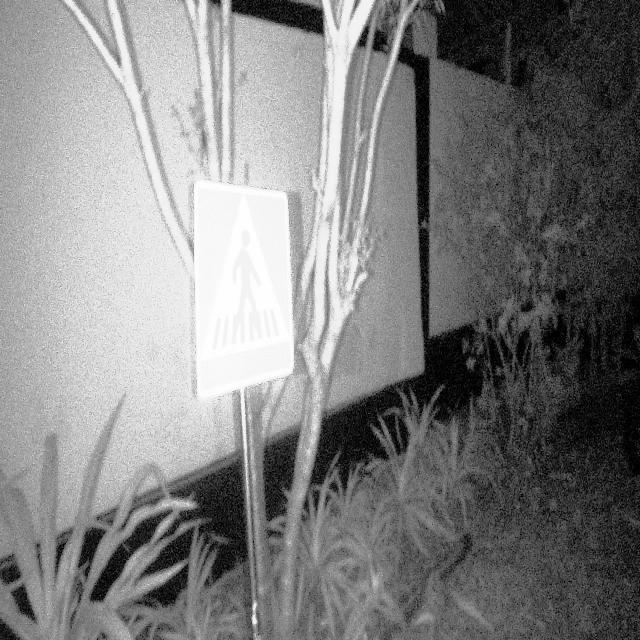Sign: (193, 179, 295, 403)
